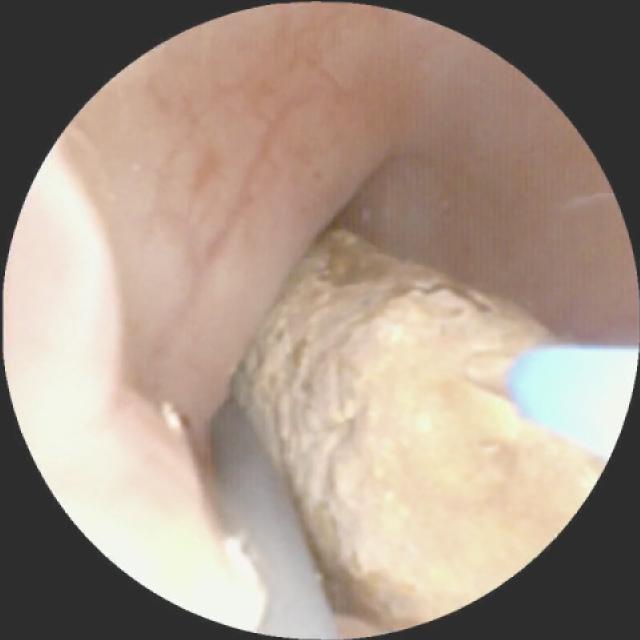fiber: (516, 350, 626, 450)
stone: (230, 232, 588, 626)
tissue: (19, 10, 632, 626)
